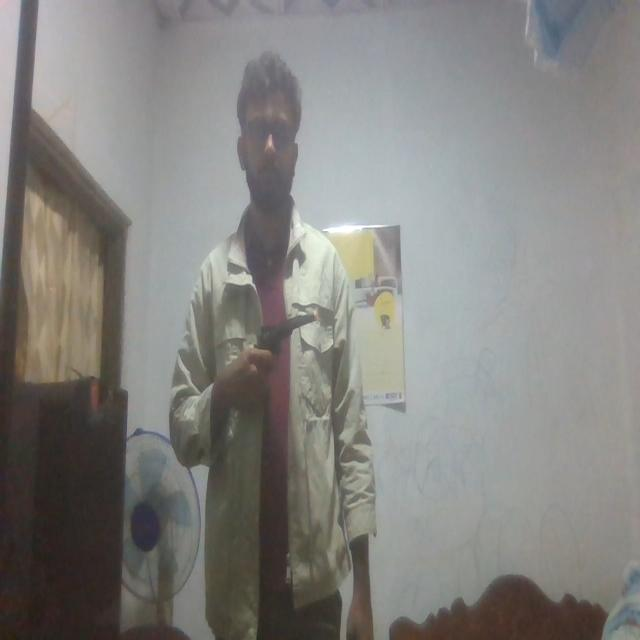Gun_Holder: (242, 299, 328, 401)
Jacket_Wearer: (172, 218, 388, 610)
Person: (172, 49, 384, 640)
